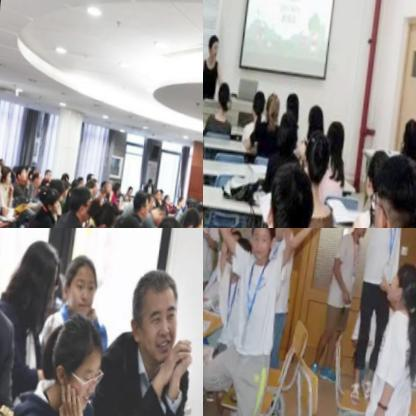head: (128, 259, 186, 359), (50, 308, 109, 405), (261, 150, 322, 228), (6, 228, 65, 308), (369, 138, 416, 228), (64, 249, 102, 316), (365, 136, 395, 196), (304, 120, 333, 180), (387, 252, 416, 308), (277, 101, 303, 154), (324, 107, 348, 149), (305, 89, 328, 130), (71, 182, 96, 219), (248, 228, 279, 257), (264, 80, 285, 119), (400, 102, 416, 152), (108, 207, 144, 228), (94, 199, 120, 228), (283, 81, 305, 115), (151, 209, 190, 228), (251, 78, 269, 112), (45, 184, 66, 213), (181, 201, 203, 228), (216, 72, 233, 106), (135, 188, 154, 216), (206, 25, 222, 56), (151, 196, 169, 223), (17, 163, 31, 182), (57, 176, 70, 196), (270, 228, 293, 239), (3, 165, 15, 185), (105, 177, 118, 194), (33, 167, 44, 185), (92, 175, 103, 192), (154, 183, 165, 198), (165, 190, 175, 204), (351, 228, 371, 235), (44, 166, 54, 179), (88, 176, 96, 192), (127, 182, 136, 195), (0, 161, 5, 183), (197, 198, 203, 215), (178, 191, 186, 202), (147, 175, 155, 185), (116, 180, 123, 191)
